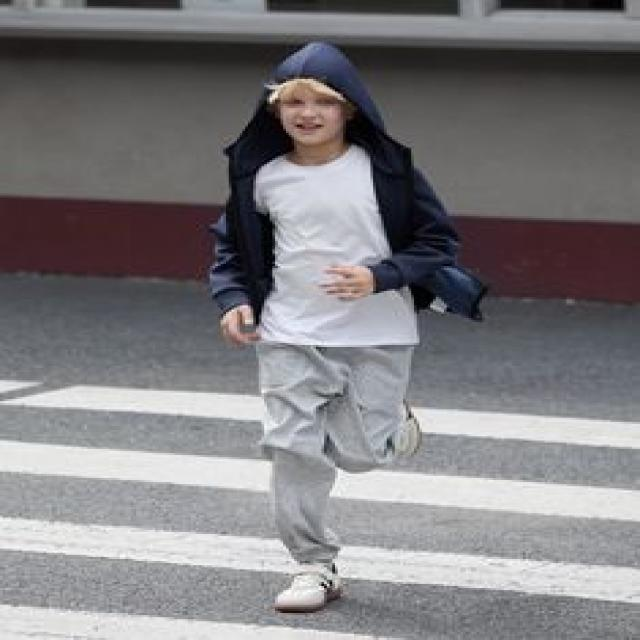4_capucha: (224, 44, 416, 166)
